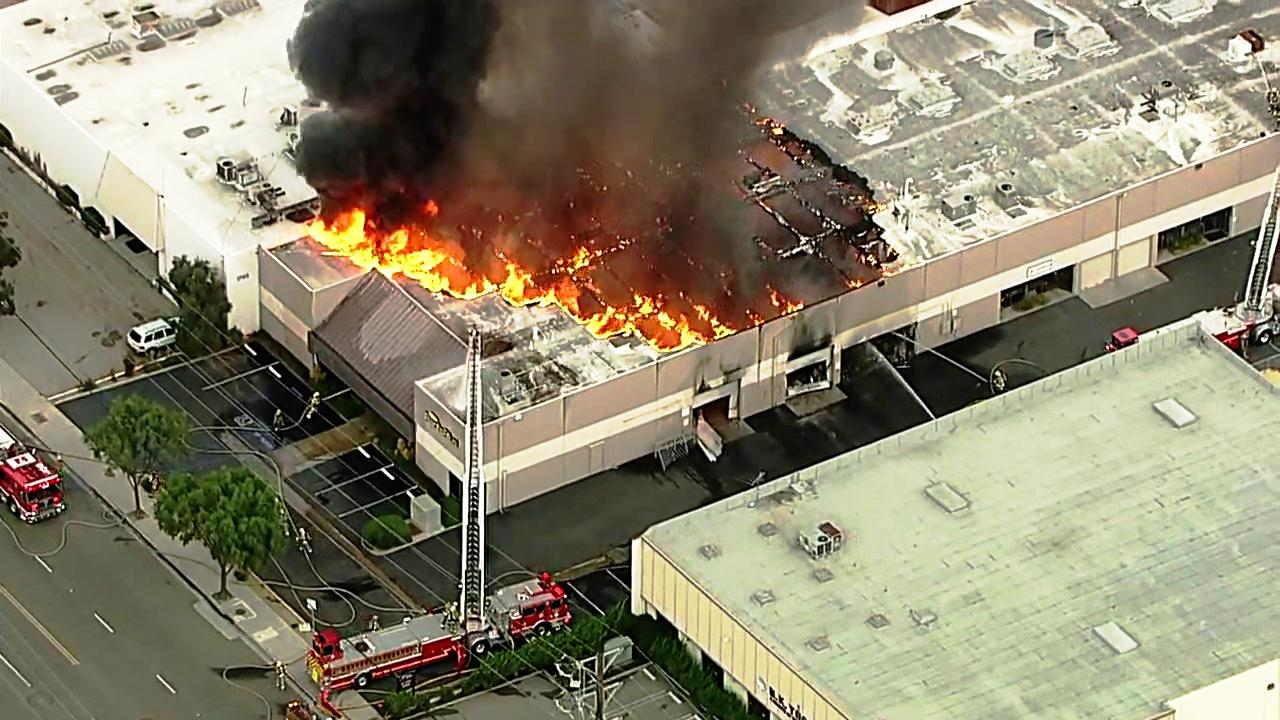fire: (317, 215, 433, 276)
smoke: (263, 0, 482, 208)
